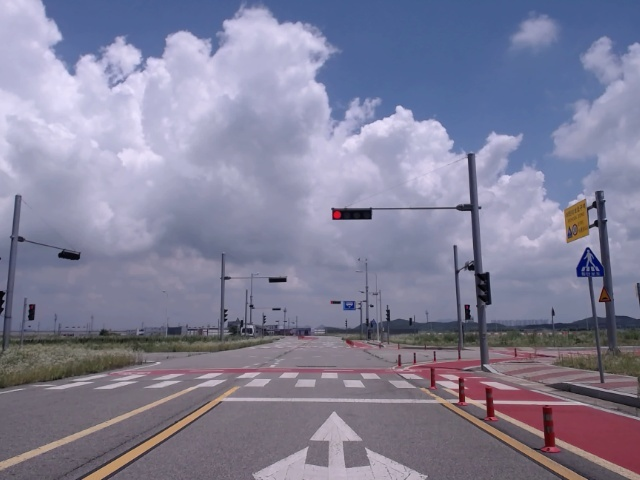red_4: (332, 209, 371, 220)
